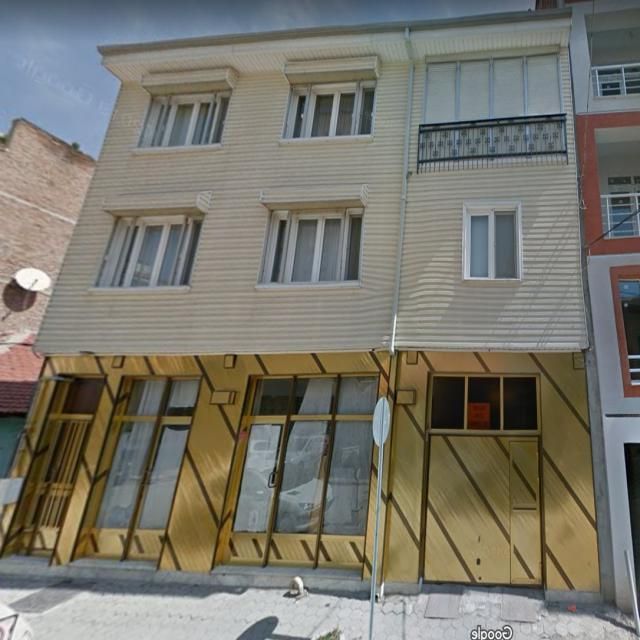Building: (0, 7, 600, 590)
